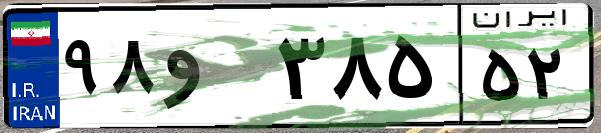2: (525, 38, 570, 115)
3: (270, 28, 330, 110)
5: (385, 28, 445, 110), (475, 38, 525, 113)
8: (330, 28, 385, 110), (110, 28, 158, 98)
9: (57, 26, 110, 100)
و: (158, 20, 270, 120)
